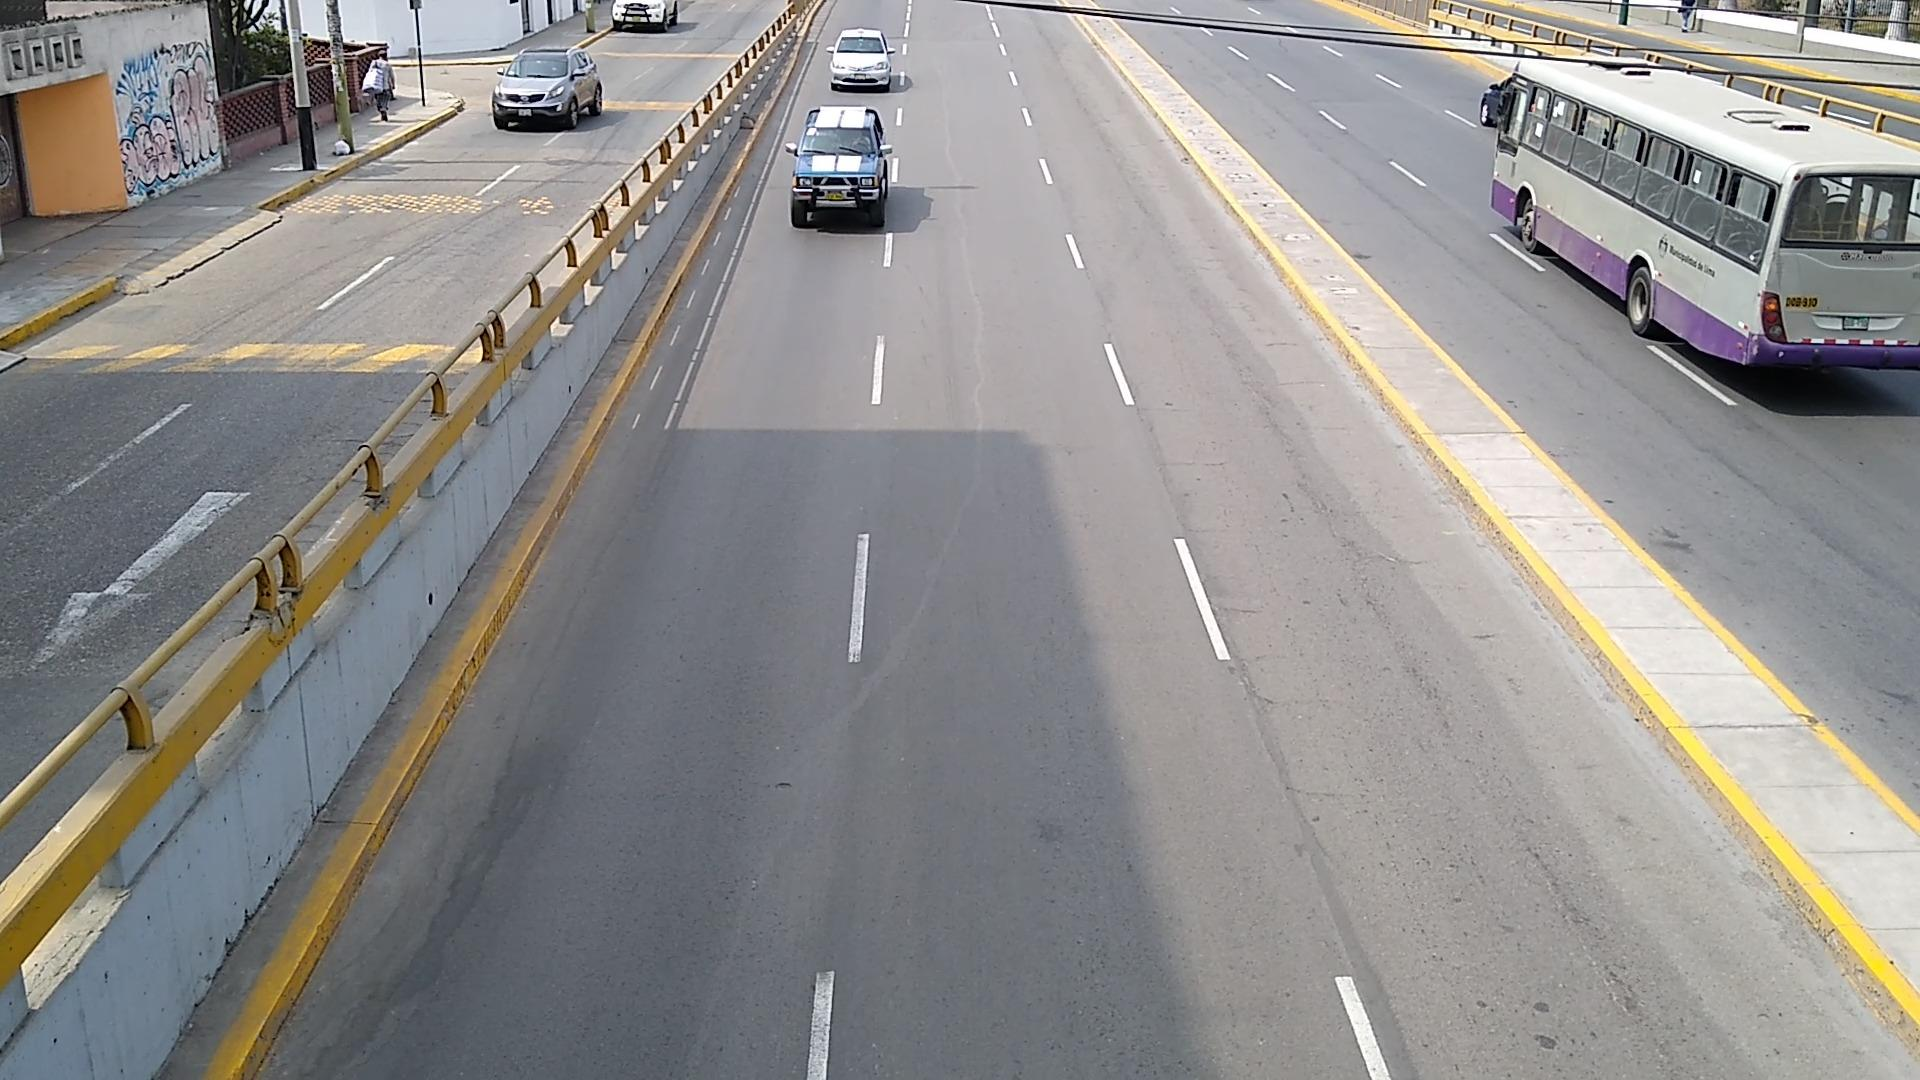bus: (1489, 61, 1920, 368)
car: (783, 105, 889, 228), (492, 49, 600, 128), (828, 30, 893, 90)
